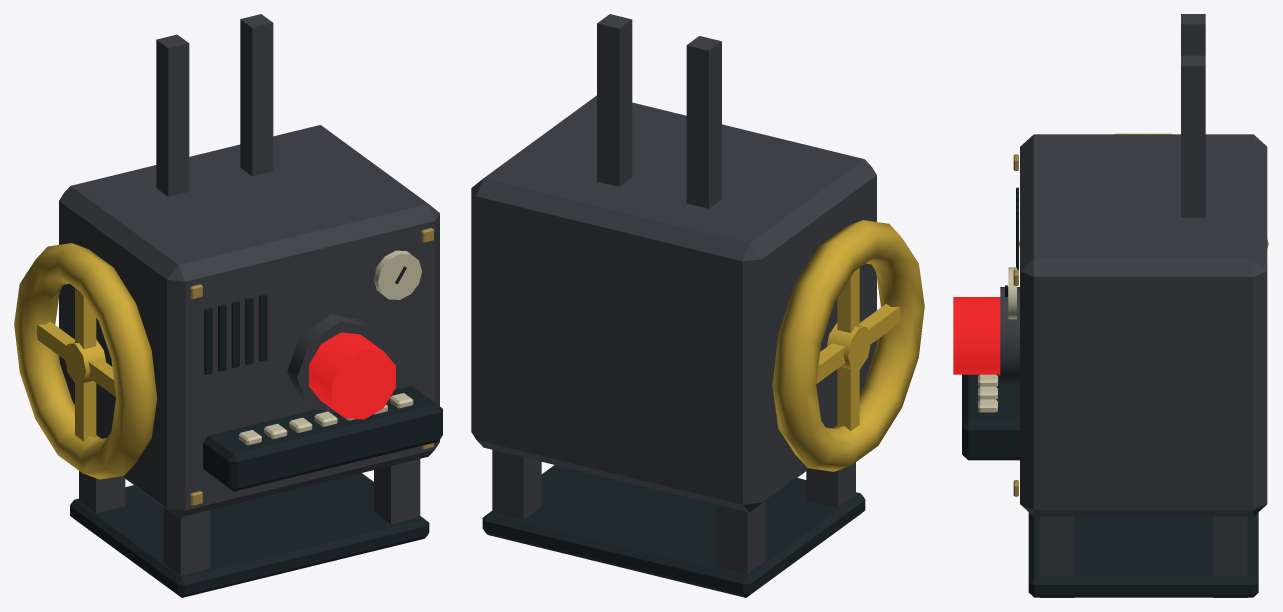
Rendered from cipher.glb.
3 renders of one model, left to right at view 1: azimuth 30°, elevation 25°; view 2: azimuth 150°, elevation 25°; view 3: azimuth 270°, elevation 25°, orthographic. The views are drawn at different scales.
Parts seen in each view (by area): view 1: Cipher_machine_surface, Cipher_machine_Machine_insets, Cipher_machine, Cipher_machine_Gauge_ivory, Cipher_machine_Machine_brass; view 2: Cipher_machine_surface, Cipher_machine, Cipher_machine_Machine_insets; view 3: Cipher_machine_surface, Cipher_machine_Machine_insets, Cipher_machine, Cipher_machine_Gauge_ivory.
Boxes of the visible parts, box(x1,y1,x2,y2) form: Cipher_machine_surface: box(59, 14, 439, 575); Cipher_machine_Machine_insets: box(70, 266, 442, 597); Cipher_machine: box(14, 243, 395, 479); Cipher_machine_Gauge_ivory: box(238, 250, 421, 445); Cipher_machine_Machine_brass: box(190, 228, 433, 506); Cipher_machine_surface: box(471, 14, 876, 574); Cipher_machine: box(772, 220, 924, 471); Cipher_machine_Machine_insets: box(482, 465, 865, 597); Cipher_machine_surface: box(1000, 14, 1267, 597); Cipher_machine_Machine_insets: box(962, 187, 1258, 597); Cipher_machine: box(953, 133, 1268, 374); Cipher_machine_Gauge_ivory: box(978, 267, 1016, 412).
Size of the model in its own units: 1.5 by 2.2 by 1.28.
